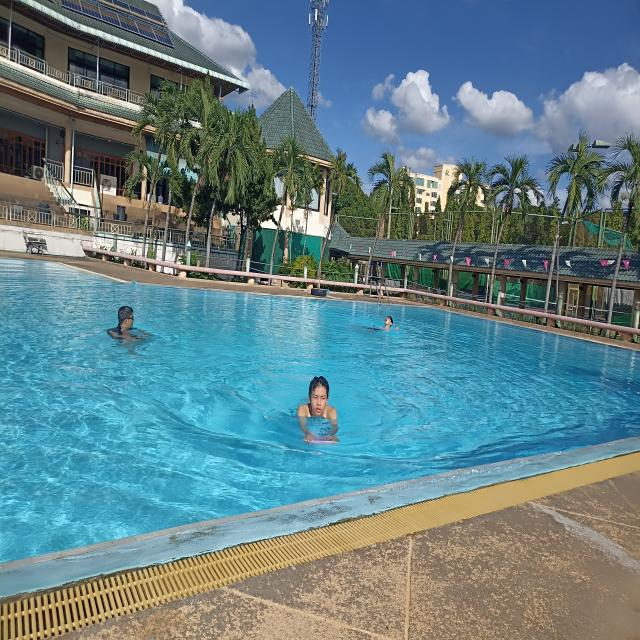Swimming: (290, 371, 352, 461), (95, 302, 165, 357), (364, 314, 405, 345)
